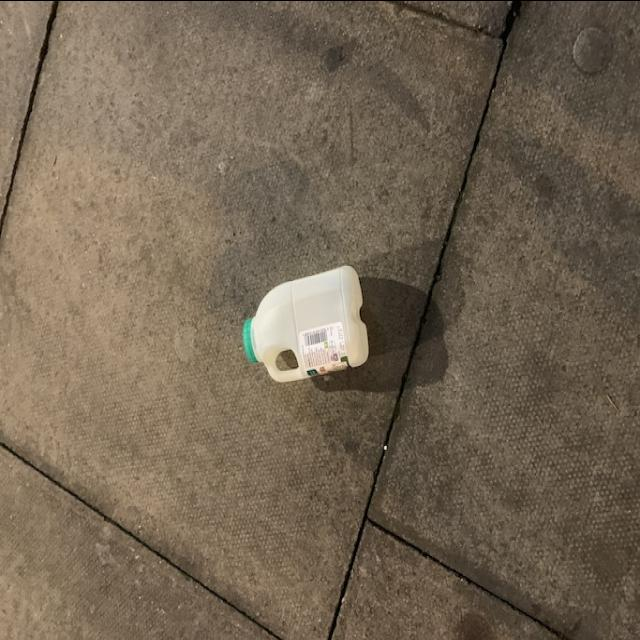HDPEM: (246, 261, 366, 389)
